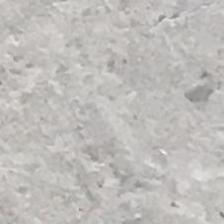Non_Crack: (29, 22, 221, 209)
